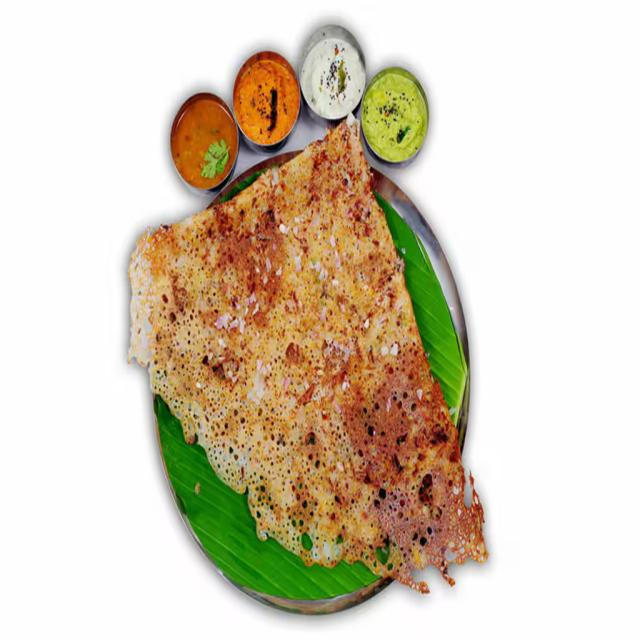DOSA: (133, 116, 473, 562)
GREEN CHUTNEY: (366, 78, 423, 156)
RED CHUTNEY: (238, 60, 298, 141)
SAMBAR: (175, 103, 233, 187)
WHITE CHUTNEY: (303, 45, 358, 112)
